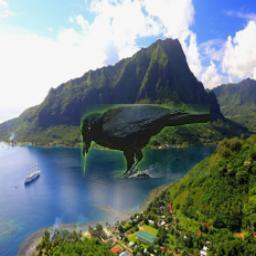Crow: (82, 104, 211, 178)
